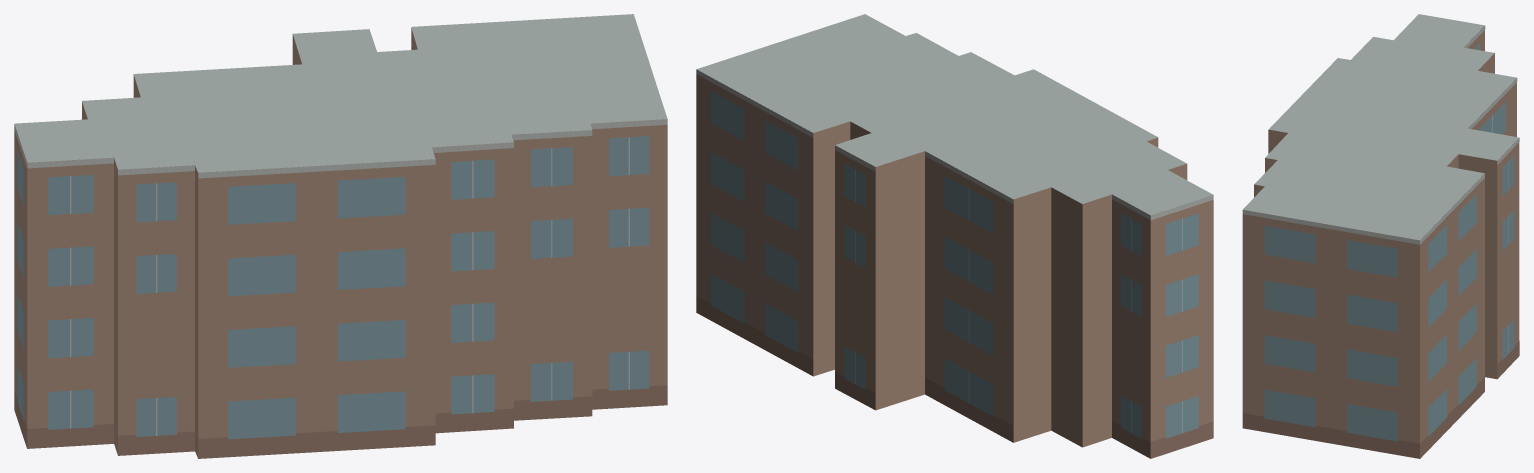
The model's file is survey-upis-32502885.glb.
3 views of the same model, side by side, from view 1: azimuth 30°, elevation 25°; view 2: azimuth 150°, elevation 25°; view 3: azimuth 270°, elevation 25° (orthographic). The views are drawn at different scales.
Parts seen in each view (by area): view 1: survey-upis-32502885.tmp; view 2: survey-upis-32502885.tmp; view 3: survey-upis-32502885.tmp.
Boxes of the visible parts, x1=… form: survey-upis-32502885.tmp: x1=14, y1=14, x2=667, y2=458; survey-upis-32502885.tmp: x1=696, y1=14, x2=1213, y2=458; survey-upis-32502885.tmp: x1=1242, y1=14, x2=1519, y2=458.
Bounding box in the file's own units: 27.11 × 12.2 × 14.02.
